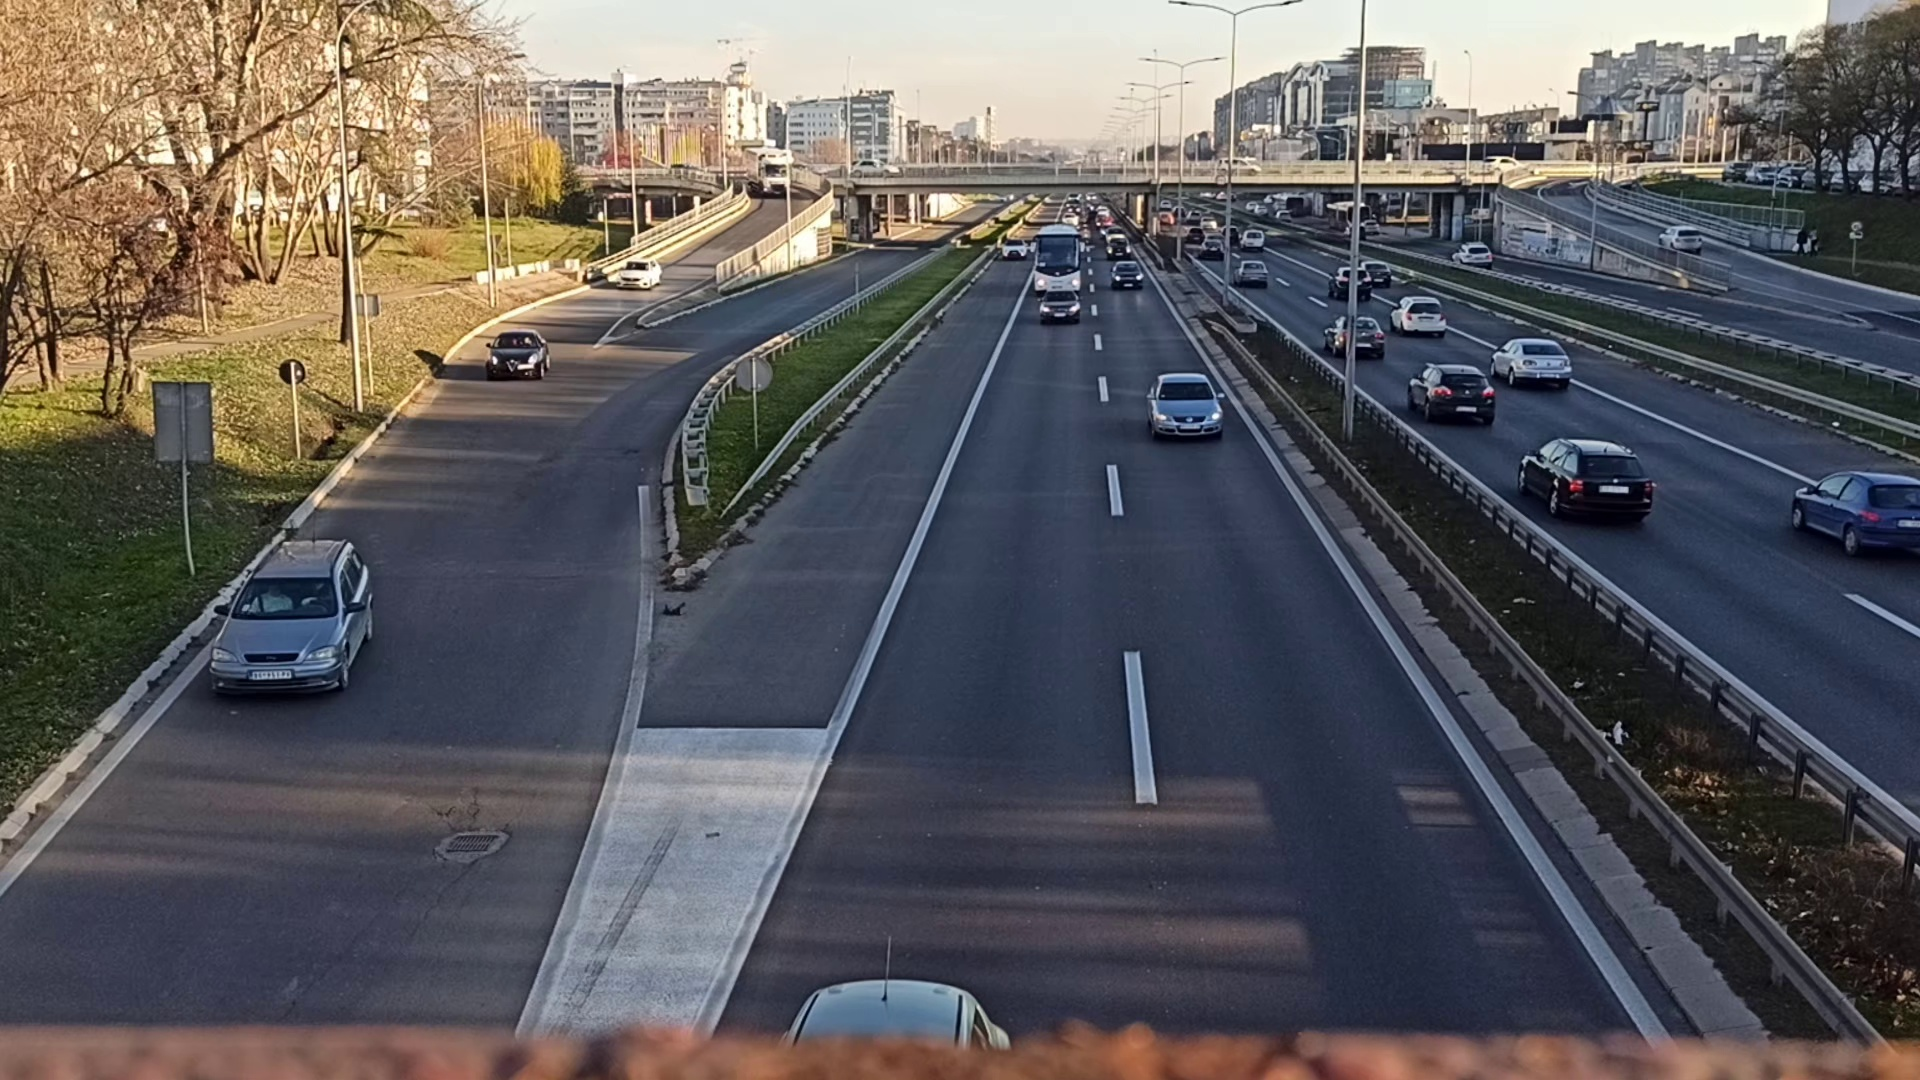bus: (1038, 229, 1077, 294)
car: (210, 531, 363, 700), (1510, 436, 1662, 526), (1784, 462, 1920, 553), (1403, 361, 1495, 425), (1147, 368, 1225, 442), (1487, 338, 1572, 390), (1328, 314, 1383, 356), (1038, 289, 1081, 322)
